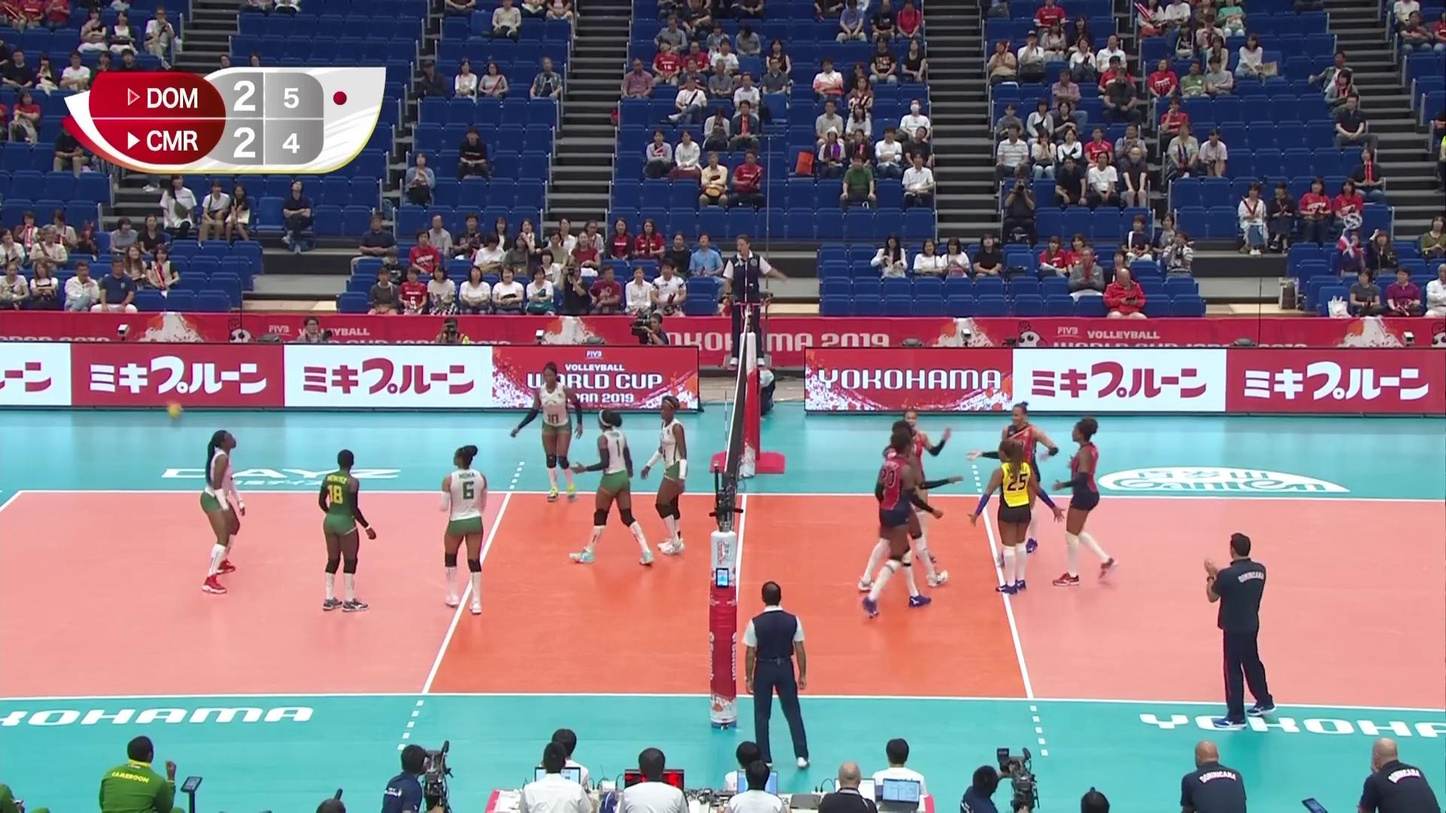player: (858, 424, 946, 589), (859, 436, 938, 611), (972, 440, 1052, 593), (574, 411, 651, 565), (1054, 420, 1118, 584), (990, 404, 1057, 555), (886, 405, 949, 562), (318, 450, 374, 613), (437, 446, 491, 610), (520, 366, 581, 501), (197, 431, 247, 594), (644, 397, 690, 555)
refree: (742, 580, 810, 769), (723, 236, 787, 361)
